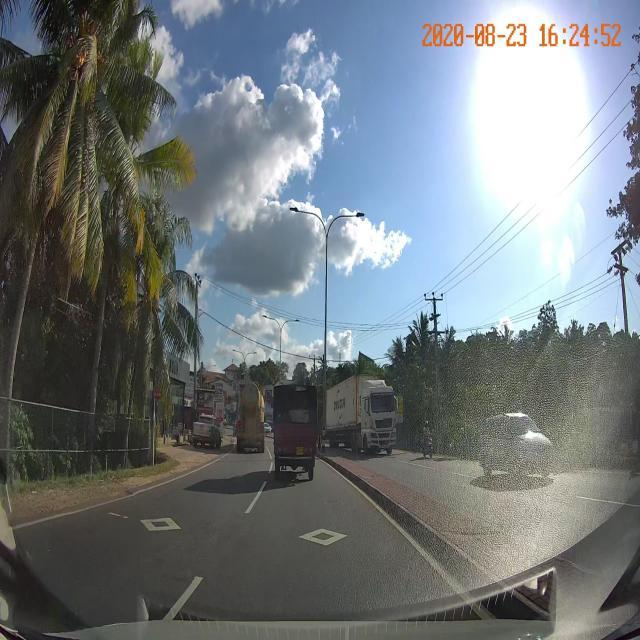diamond: (216, 525, 431, 555)
